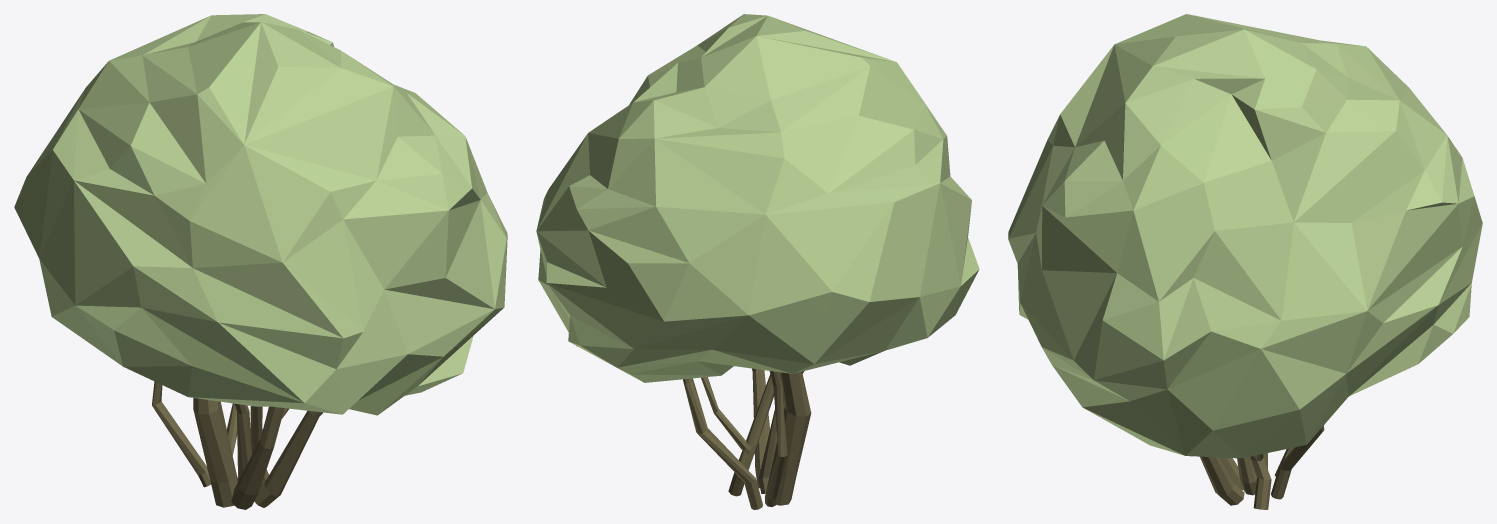
File: Hazel.fbx
3 views of the same model, side by side, from view 1: azimuth 30°, elevation 25°; view 2: azimuth 150°, elevation 25°; view 3: azimuth 270°, elevation 25° (orthographic). The views are drawn at different scales.
Parts seen in each view (by area): view 1: pSphere7; view 2: pSphere7; view 3: pSphere7.
Part boxes in pixels (x1=…): pSphere7: x1=14, y1=14, x2=507, y2=509; pSphere7: x1=536, y1=14, x2=979, y2=509; pSphere7: x1=1008, y1=14, x2=1482, y2=509.
Size of the model in its own units: 609 by 673 by 607.
